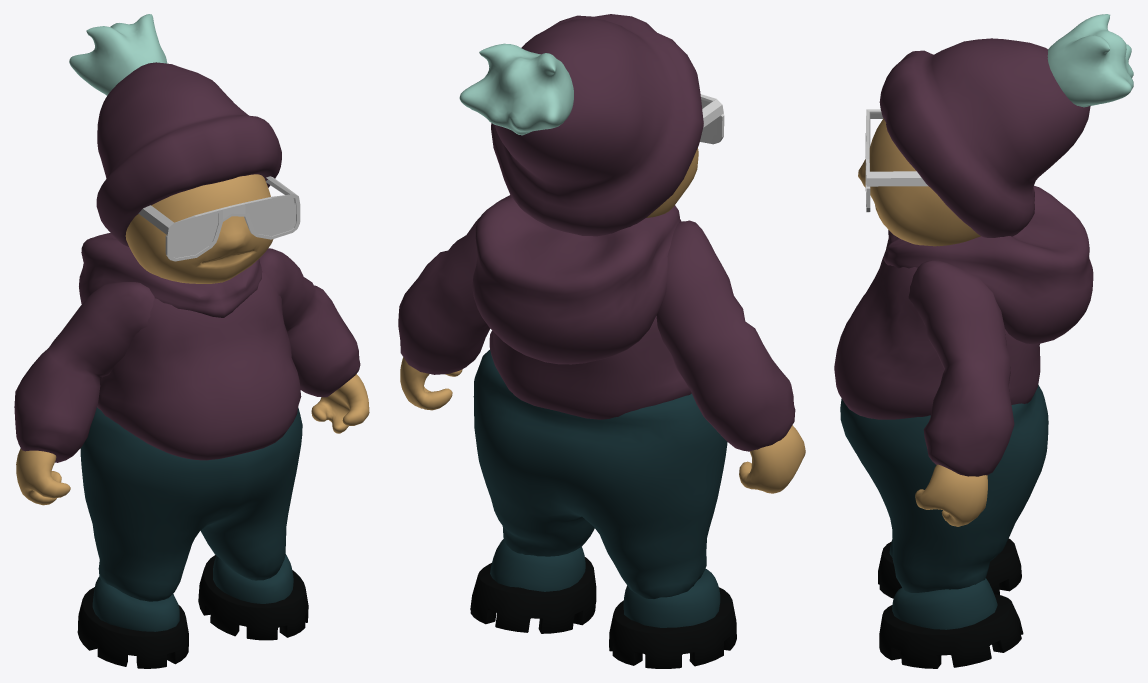
File: hero 1_000001.obj
3 views of the same model, side by side, from view 1: azimuth 30°, elevation 25°; view 2: azimuth 150°, elevation 25°; view 3: azimuth 270°, elevation 25° (orthographic). The views are drawn at different scales.
Visible parts, largest first — view 1: Retopo_Cube.002_mesh.004, Retopo_Cube.003_mesh.008, Retopo_Cube.004_mesh, Retopo_Cube.010_mesh.005, Cube.007_Cube.006, Retopo_Cube.008_mesh.007, Retopo_Cube.009_mesh.003, Cube.012_Cube.011, Retopo_Cube.006_mesh.002, Retopo_Cube.011_mesh.006, Retopo_Cube.005_mesh.001; view 2: Retopo_Cube.002_mesh.004, Retopo_Cube.010_mesh.005, Retopo_Cube.004_mesh, Retopo_Cube.009_mesh.003, Cube.007_Cube.006, Retopo_Cube.003_mesh.008, Retopo_Cube.011_mesh.006, Retopo_Cube.006_mesh.002, Retopo_Cube.005_mesh.001, Cube.012_Cube.011, Retopo_Cube.008_mesh.007; view 3: Retopo_Cube.010_mesh.005, Retopo_Cube.002_mesh.004, Retopo_Cube.004_mesh, Retopo_Cube.009_mesh.003, Retopo_Cube.003_mesh.008, Cube.007_Cube.006, Retopo_Cube.008_mesh.007, Retopo_Cube.011_mesh.006, Retopo_Cube.006_mesh.002, Retopo_Cube.005_mesh.001, Cube.012_Cube.011.
Part boxes in pixels (x1,y1,x2,y2): Retopo_Cube.002_mesh.004: (80,407,302,601); Retopo_Cube.003_mesh.008: (97,272,301,460); Retopo_Cube.004_mesh: (14,248,360,462); Retopo_Cube.010_mesh.005: (96,62,281,246); Cube.007_Cube.006: (77,555,308,668); Retopo_Cube.008_mesh.007: (125,174,273,283); Retopo_Cube.009_mesh.003: (79,233,262,317); Cube.012_Cube.011: (138,176,300,261); Retopo_Cube.006_mesh.002: (92,554,293,631); Retopo_Cube.011_mesh.006: (69,14,167,95); Retopo_Cube.005_mesh.001: (16,374,369,505); Retopo_Cube.002_mesh.004: (473,349,727,598); Retopo_Cube.010_mesh.005: (491,14,703,236); Retopo_Cube.004_mesh: (398,195,795,451); Retopo_Cube.009_mesh.003: (472,196,681,364); Cube.007_Cube.006: (470,557,736,668); Retopo_Cube.003_mesh.008: (489,316,691,419); Retopo_Cube.011_mesh.006: (459,43,573,135); Retopo_Cube.006_mesh.002: (490,539,720,627); Retopo_Cube.005_mesh.001: (400,357,805,493); Cube.012_Cube.011: (700,94,724,144); Retopo_Cube.008_mesh.007: (646,148,698,217); Retopo_Cube.010_mesh.005: (879,38,1090,237); Retopo_Cube.002_mesh.004: (840,385,1048,592); Retopo_Cube.004_mesh: (908,260,1014,476); Retopo_Cube.009_mesh.003: (883,185,1093,344); Retopo_Cube.003_mesh.008: (834,256,1040,419); Cube.007_Cube.006: (878,538,1023,668); Retopo_Cube.008_mesh.007: (858,118,980,246); Retopo_Cube.011_mesh.006: (1047,14,1133,107); Retopo_Cube.006_mesh.002: (889,539,997,629); Retopo_Cube.005_mesh.001: (915,464,987,526); Cube.012_Cube.011: (865,109,928,212).
Bounding box in the file's own units: 2.83 × 4.43 × 2.03.
